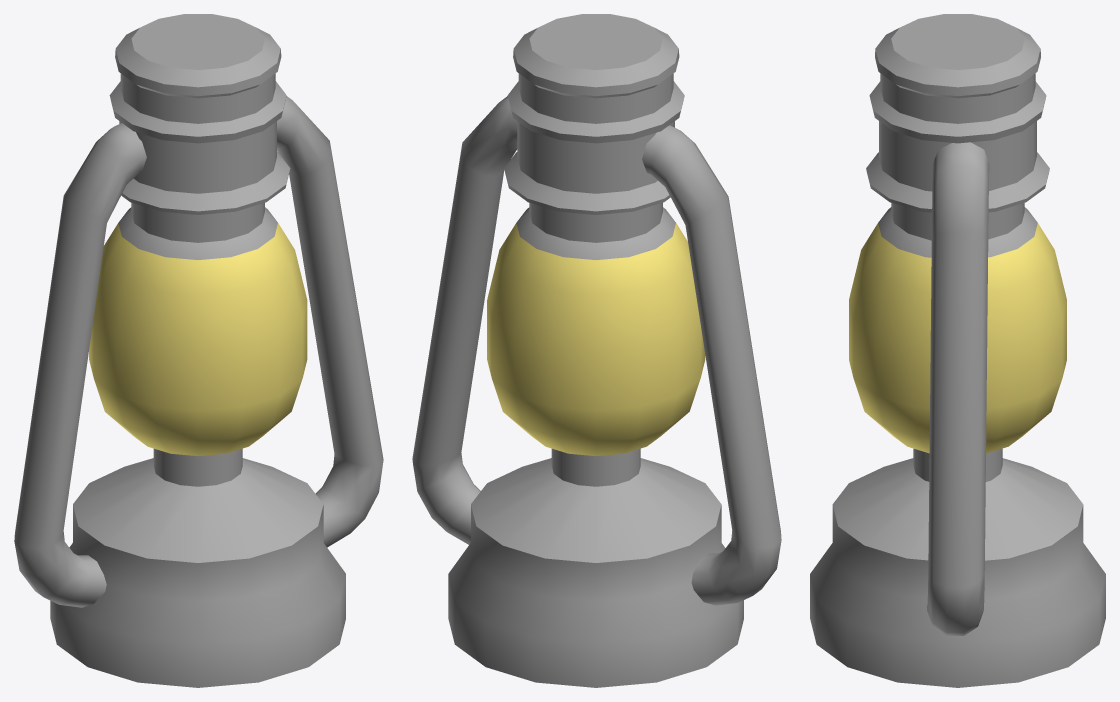
Rendered from lantern.fbx.
3 views of the same model, side by side, from view 1: azimuth 30°, elevation 25°; view 2: azimuth 150°, elevation 25°; view 3: azimuth 270°, elevation 25° (orthographic).
Parts seen in each view (by area): view 1: lantern_geo; view 2: lantern_geo; view 3: lantern_geo.
Boxes of the visible parts, x1=… form: lantern_geo: x1=14, y1=14, x2=383, y2=687; lantern_geo: x1=412, y1=14, x2=781, y2=687; lantern_geo: x1=810, y1=14, x2=1105, y2=687.
Bounding box in the file's own units: 15.39 × 23.81 × 10.94.
